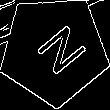N_SW: (23, 19, 85, 81)
